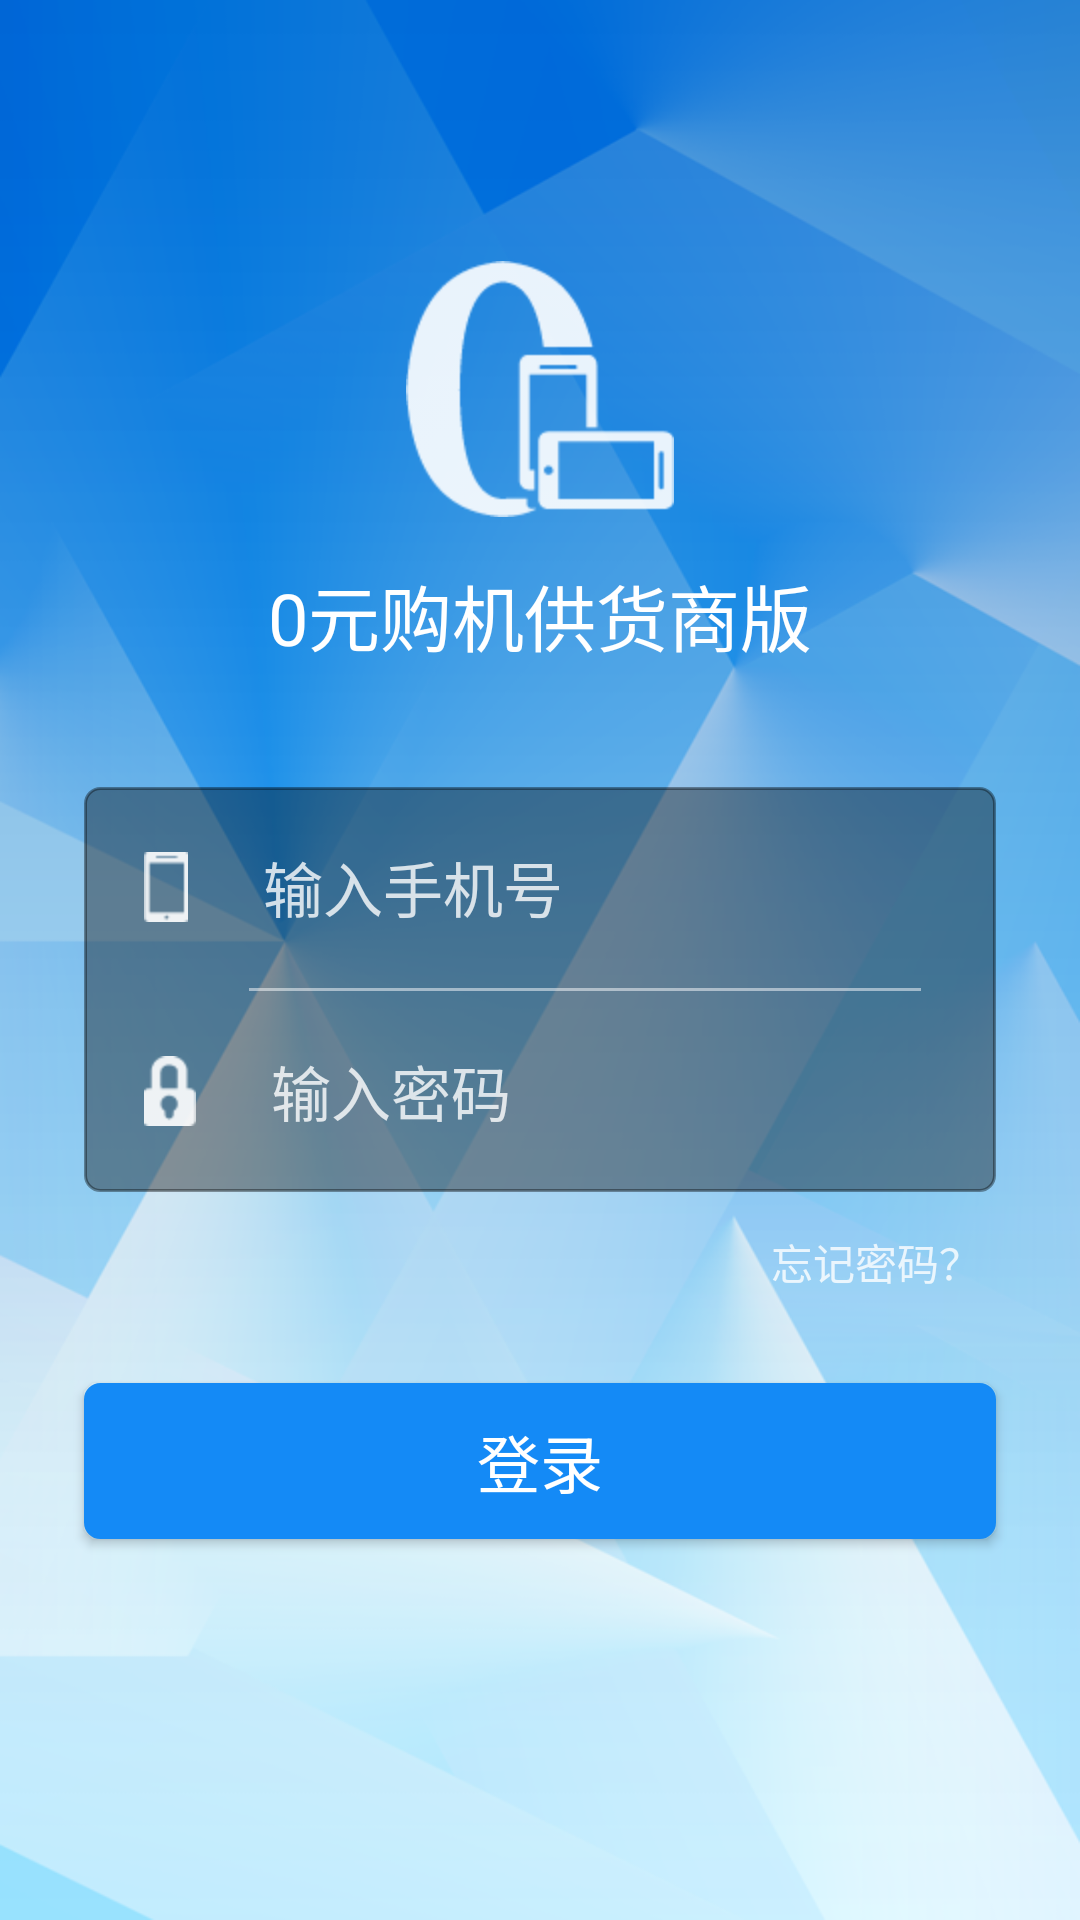

Named icons in this screenshot (1080px x 1920px) and their centers, (x,y):
login lock: (170,1091)
login phone: (166,887)
